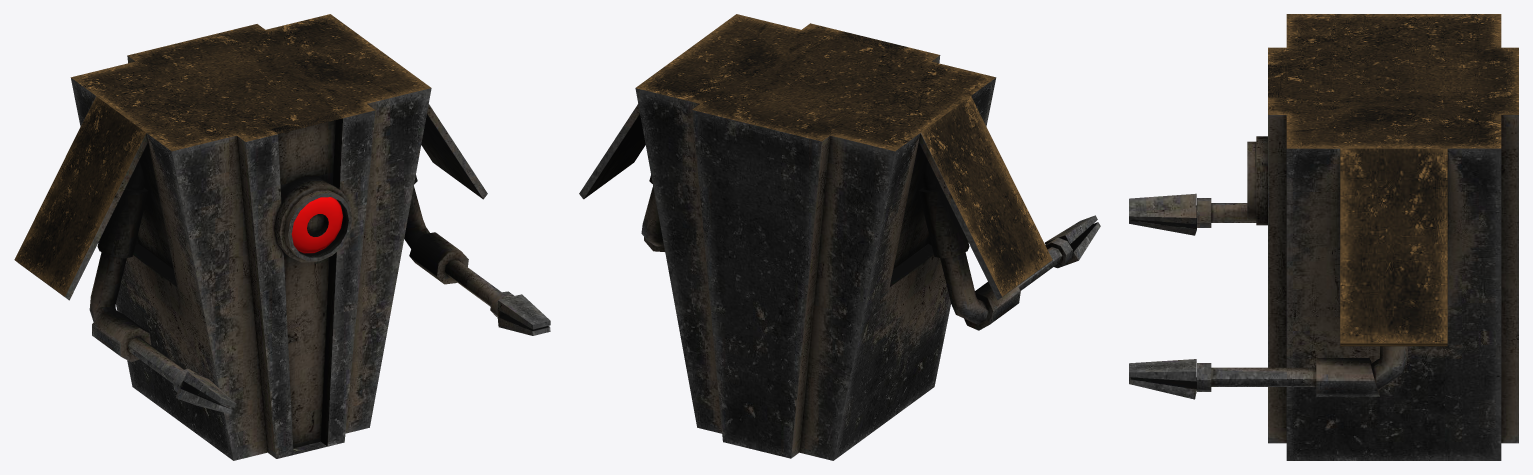
The model's file is EnemyMetal.fbx.
The picture shows the model from 3 angles, left to right: view 1: azimuth 30°, elevation 25°; view 2: azimuth 150°, elevation 25°; view 3: azimuth 270°, elevation 25°; orthographic projection. The views are drawn at different scales.
Visible parts, largest first — view 1: polymsh1, polymsh_extracted1, cylinder3, cylinder, cylinder2, cylinder1, polymsh_extracted, cube1, cube3, cube4; view 2: polymsh1, polymsh_extracted1, cylinder3, polymsh_extracted, cylinder, cube4; view 3: polymsh1, polymsh_extracted, cylinder, cylinder2, cube3, cube1, cylinder3, cube2, cube4.
Part boxes in pixels (left/top/right/bottom): polymsh1: left=70, top=14, right=431, bottom=460; polymsh_extracted1: left=14, top=96, right=148, bottom=300; cylinder3: left=89, top=161, right=200, bottom=394; cylinder: left=404, top=175, right=514, bottom=317; cylinder2: left=274, top=176, right=352, bottom=262; cylinder1: left=291, top=197, right=343, bottom=253; polymsh_extracted: left=421, top=104, right=487, bottom=199; cube1: left=498, top=294, right=550, bottom=329; cube3: left=183, top=371, right=236, bottom=407; cube4: left=176, top=388, right=232, bottom=414; polymsh1: left=635, top=14, right=996, bottom=460; polymsh_extracted1: left=918, top=96, right=1052, bottom=300; cylinder3: left=918, top=161, right=1072, bottom=330; polymsh_extracted: left=579, top=104, right=645, bottom=199; cylinder: left=641, top=175, right=664, bottom=251; cube4: left=1058, top=222, right=1100, bottom=267; polymsh1: left=1268, top=14, right=1518, bottom=460; polymsh_extracted: left=1340, top=148, right=1447, bottom=346; cylinder: left=1197, top=346, right=1407, bottom=396; cylinder2: left=1247, top=136, right=1267, bottom=225; cube3: left=1129, top=193, right=1196, bottom=224; cube1: left=1129, top=359, right=1196, bottom=381; cylinder3: left=1197, top=198, right=1256, bottom=227; cube2: left=1129, top=377, right=1196, bottom=399; cube4: left=1129, top=205, right=1196, bottom=235.
Bounding box in the file's own units: 19.32 × 14.17 × 14.53.
